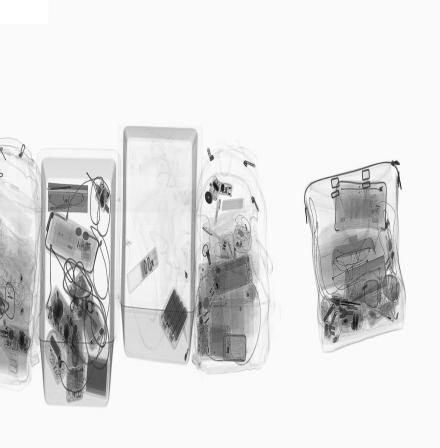Lighter: (206, 279, 222, 314)
